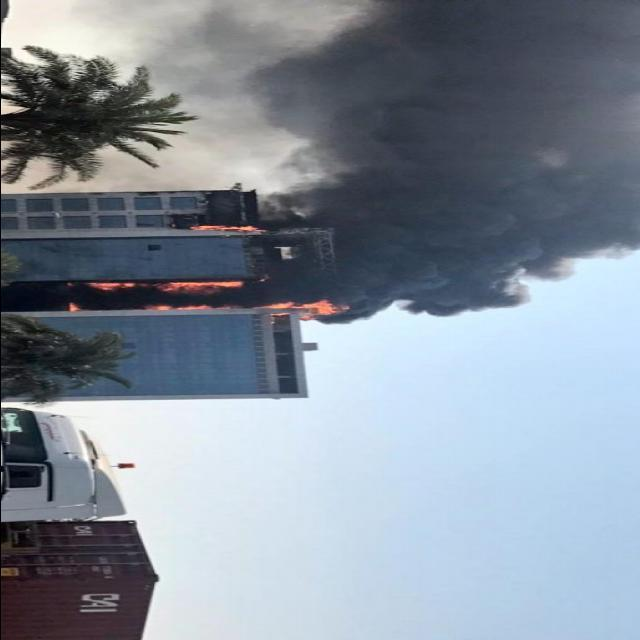Fire: (70, 278, 342, 318), (186, 222, 268, 238)
